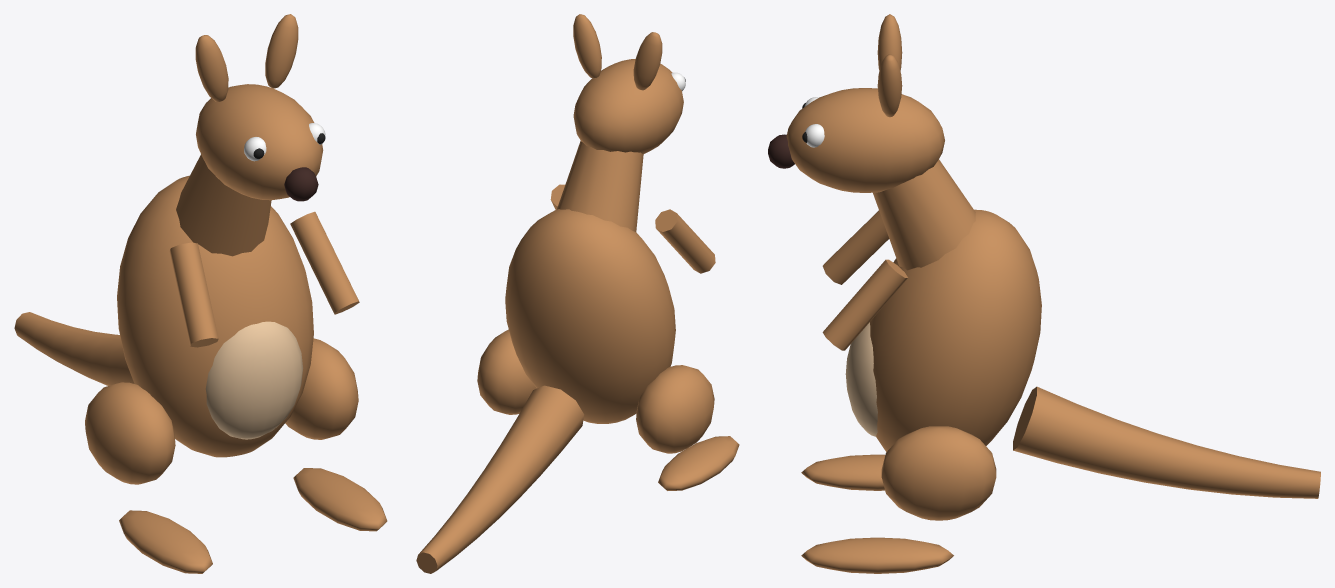
Rendered from kangaroo.glb.
3 renders of one model, left to right at view 1: azimuth 30°, elevation 25°; view 2: azimuth 150°, elevation 25°; view 3: azimuth 270°, elevation 25°, orthographic. The views are drawn at different scales.
Visible parts, largest first — view 1: kangaroo; view 2: kangaroo; view 3: kangaroo.
Part boxes in pixels (x1,y1,x2,y2): kangaroo: [14, 14, 387, 573]; kangaroo: [416, 14, 739, 573]; kangaroo: [768, 14, 1320, 573].
Size of the model in its own units: 1.16 by 2.21 by 2.25.
